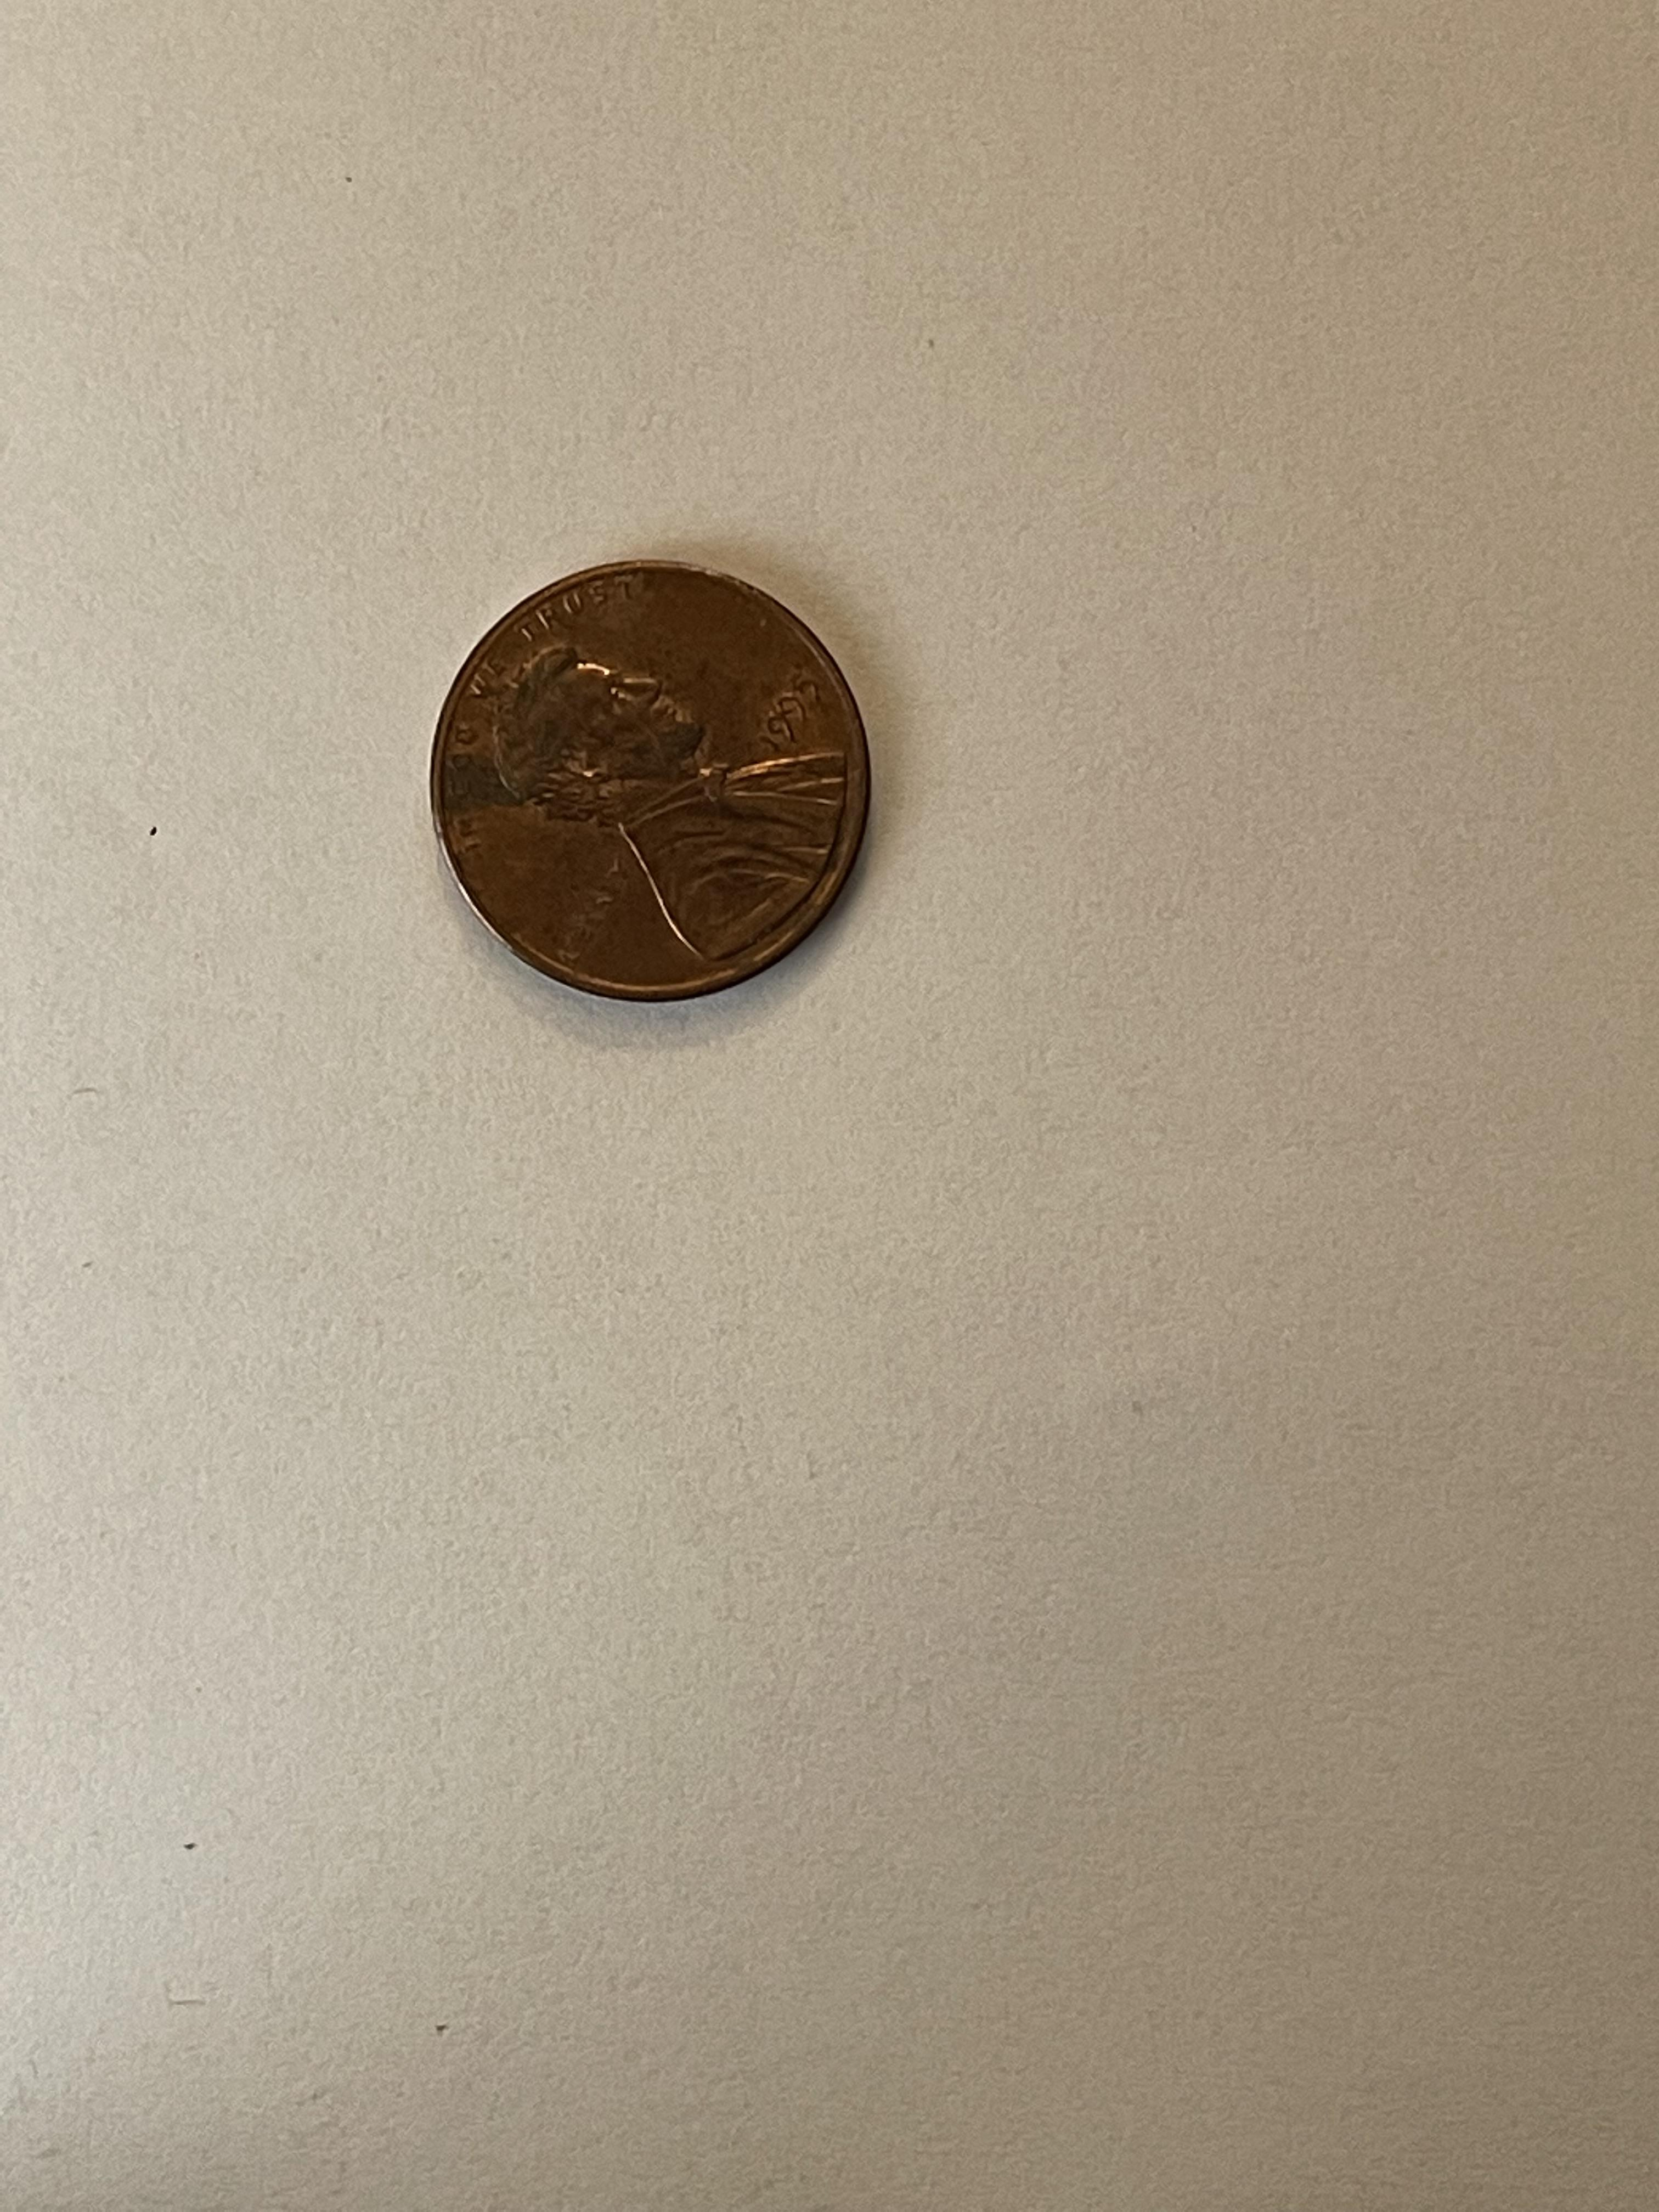Penny: (427, 557, 875, 1005)
